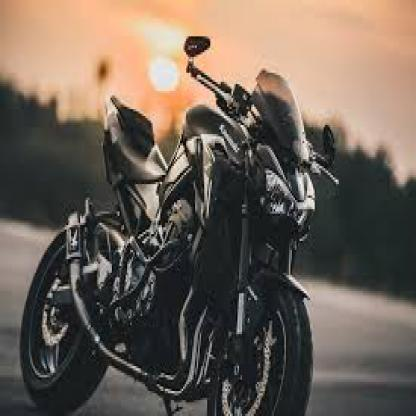Motorcycle: (12, 55, 331, 414)
